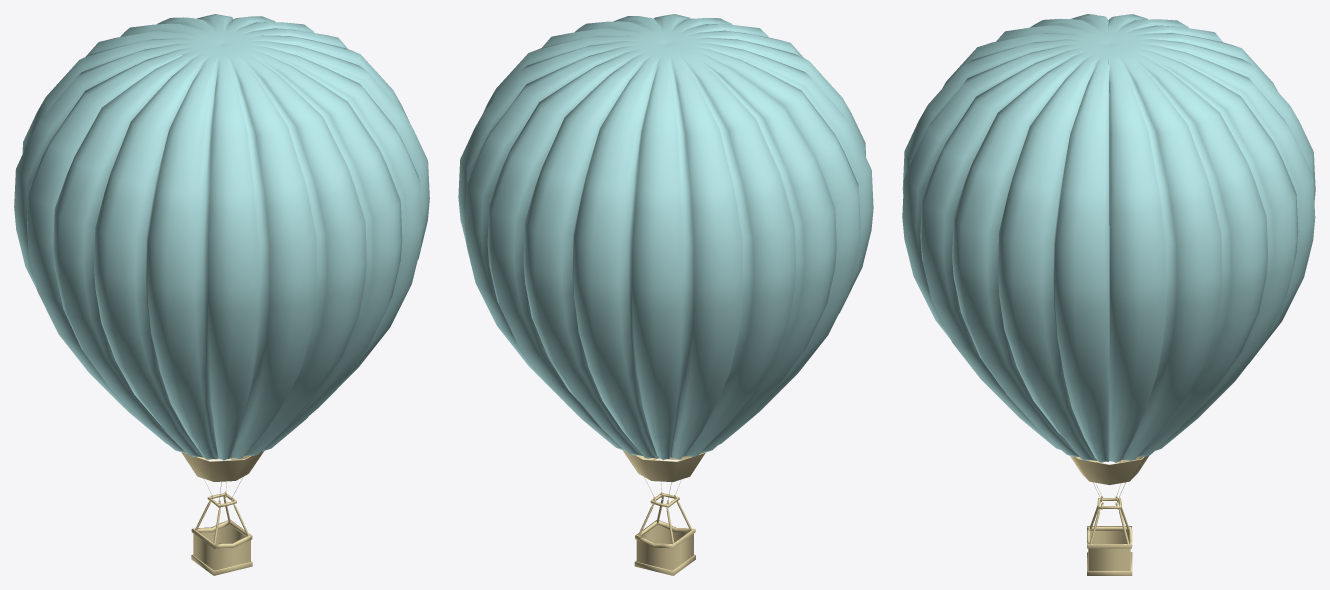
Rendered from ballon.fbx.
3 views of the same model, side by side, from view 1: azimuth 30°, elevation 25°; view 2: azimuth 150°, elevation 25°; view 3: azimuth 270°, elevation 25° (orthographic).
Parts seen in each view (by area): view 1: nurbsToPoly1, nurbsToPoly79, nurbsToPoly2, nurbsToPoly9, nurbsToPoly4; view 2: nurbsToPoly79, nurbsToPoly1, nurbsToPoly2, nurbsToPoly9, nurbsToPoly4; view 3: nurbsToPoly1, nurbsToPoly79, nurbsToPoly2, nurbsToPoly9.
Part boxes in pixels (x1,y1,x2,y2): nurbsToPoly1: (53, 35, 429, 460); nurbsToPoly79: (14, 14, 347, 444); nurbsToPoly2: (193, 524, 250, 570); nurbsToPoly9: (182, 451, 263, 481); nurbsToPoly4: (191, 520, 252, 548); nurbsToPoly79: (458, 35, 836, 460); nurbsToPoly1: (542, 14, 873, 444); nurbsToPoly2: (636, 524, 693, 570); nurbsToPoly9: (622, 450, 705, 482); nurbsToPoly4: (635, 520, 695, 548); nurbsToPoly1: (902, 14, 1109, 462); nurbsToPoly79: (1108, 14, 1315, 462); nurbsToPoly2: (1088, 530, 1130, 570); nurbsToPoly9: (1070, 455, 1149, 484).
Size of the model in its own units: 13.12 by 18.27 by 13.09.
